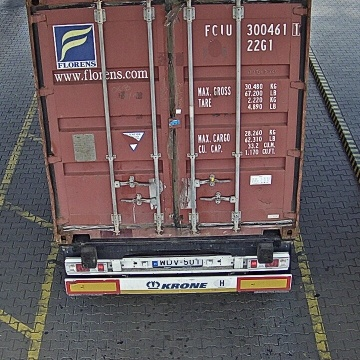serial_id: (205, 22, 300, 36)
